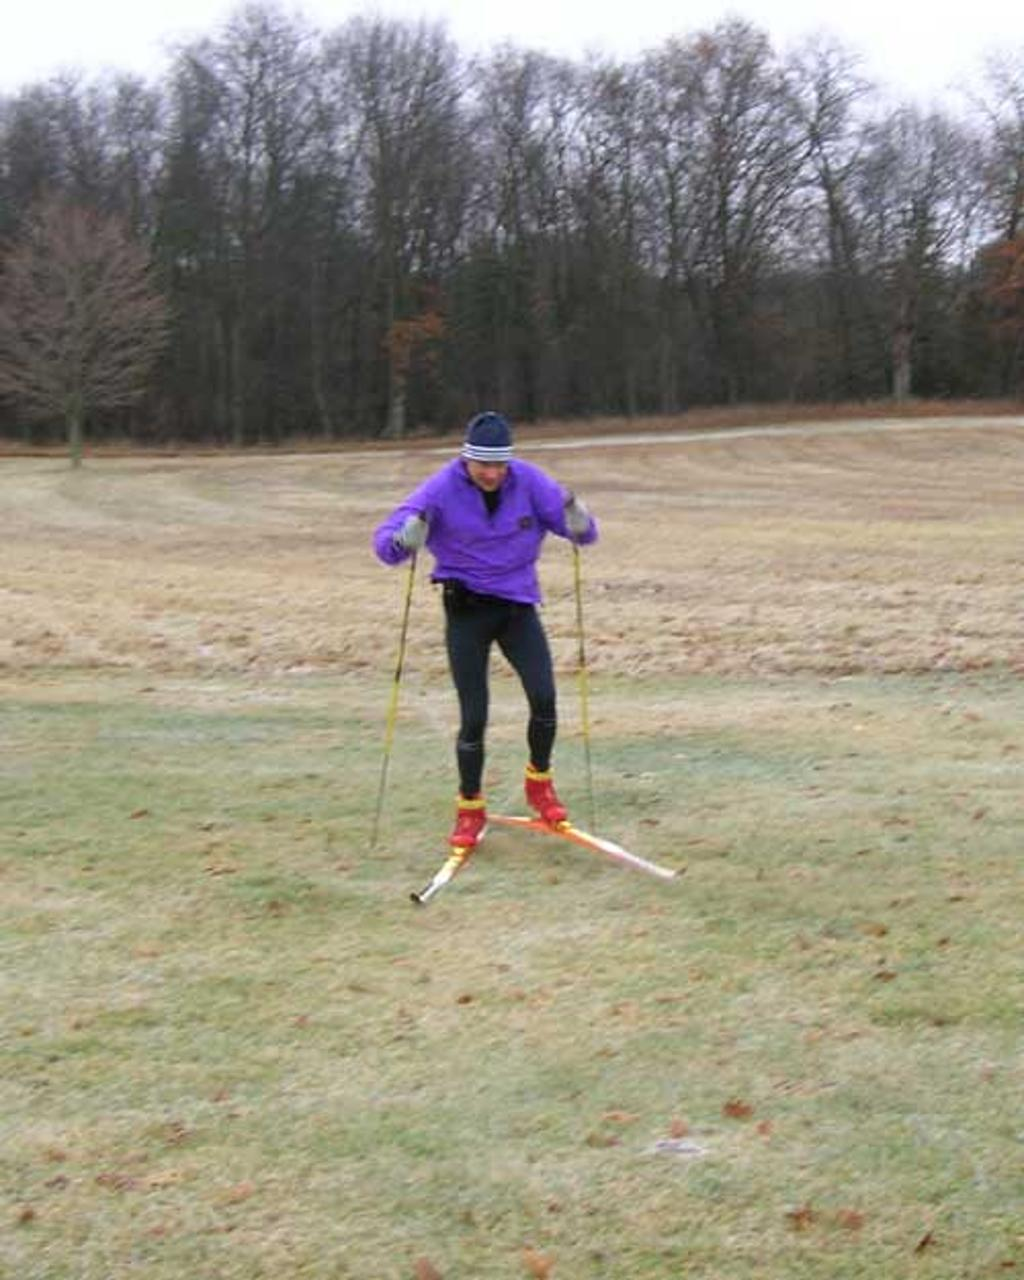face: (467, 443, 507, 492)
